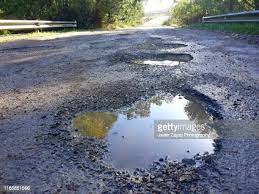potholes: (69, 95, 155, 174)
